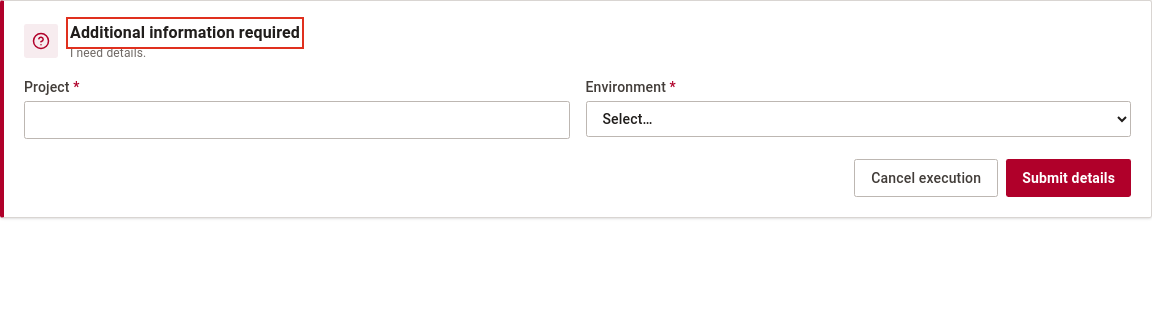
Scenario: RequiredInformationCard › renders schema fields and blocks invalid submission
Click the button "Submit details". click: point(1069, 178)
box: [1006,159,1131,197]
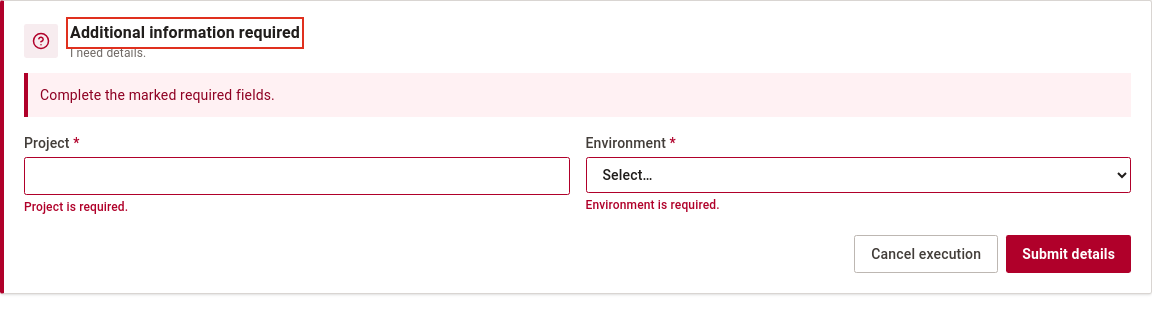
Expected: the message shows "Complete the marked required fields", [40,87,275,103]
